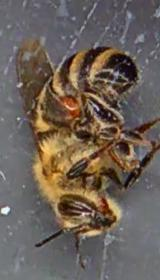varroa_mite: (54, 94, 86, 118)
